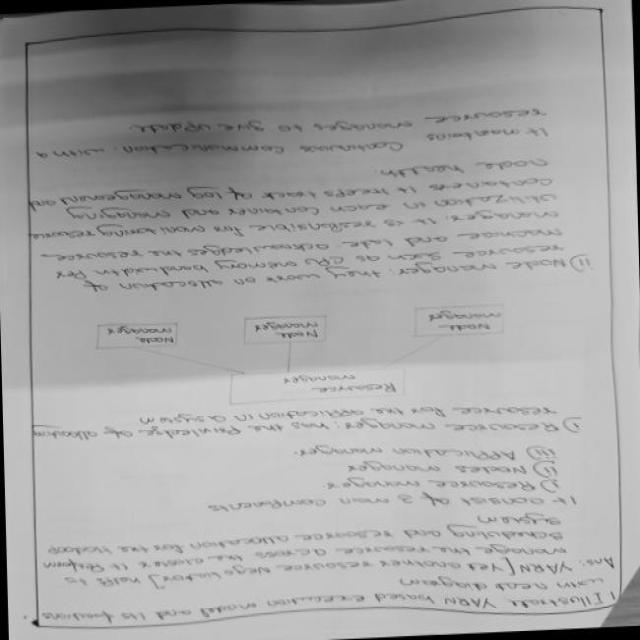Figure Detection - v3 Dataset Version2: (81, 293, 516, 417)
